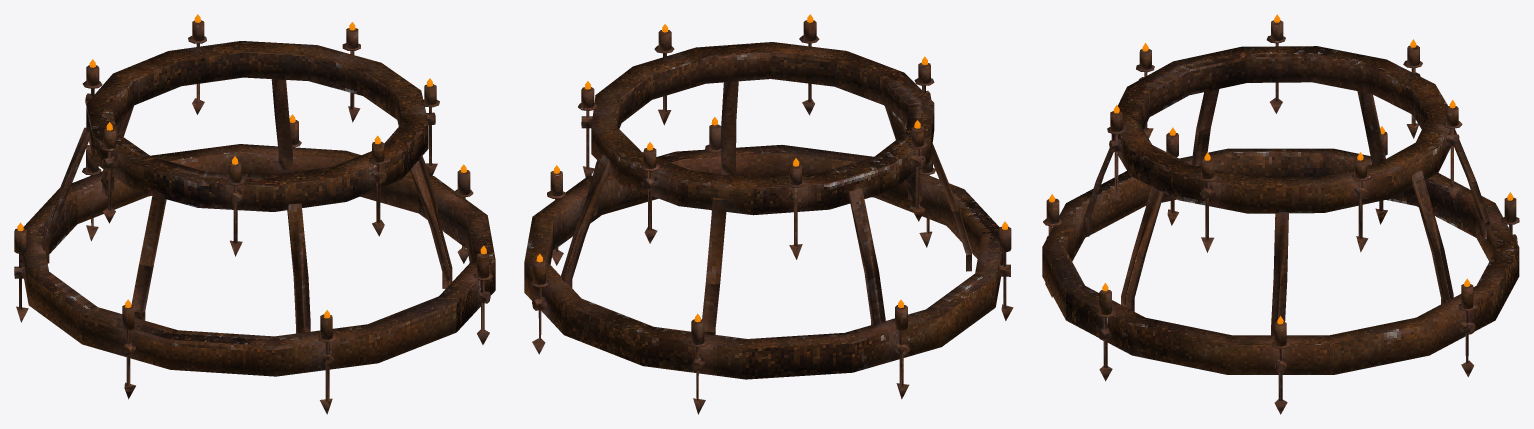
File: chandelift.glb
The picture shows the model from 3 angles, left to right: view 1: azimuth 30°, elevation 25°; view 2: azimuth 150°, elevation 25°; view 3: azimuth 270°, elevation 25°; orthographic projection.
Visible parts, largest first — view 1: chan, chan.004; view 2: chan, chan.004; view 3: chan, chan.004.
Boxes of the visible parts, bbox=[...] form: chan: bbox=[14, 20, 495, 414]; chan.004: bbox=[17, 14, 486, 318]; chan: bbox=[524, 20, 1013, 414]; chan.004: bbox=[536, 14, 1008, 322]; chan: bbox=[1042, 20, 1519, 414]; chan.004: bbox=[1049, 14, 1513, 324].
Size of what is drawn, in the model's own units: 2.79 by 1.51 by 2.79.
Materials: 2 (1 with a texture image).
